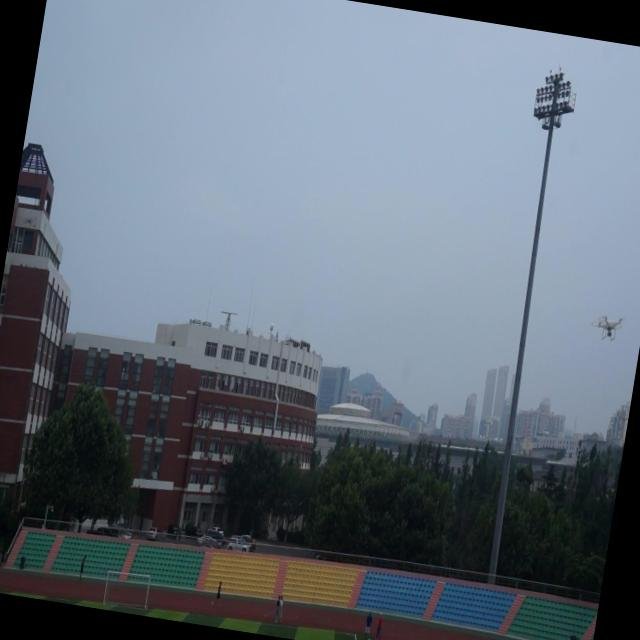drone: (588, 309, 628, 346)
